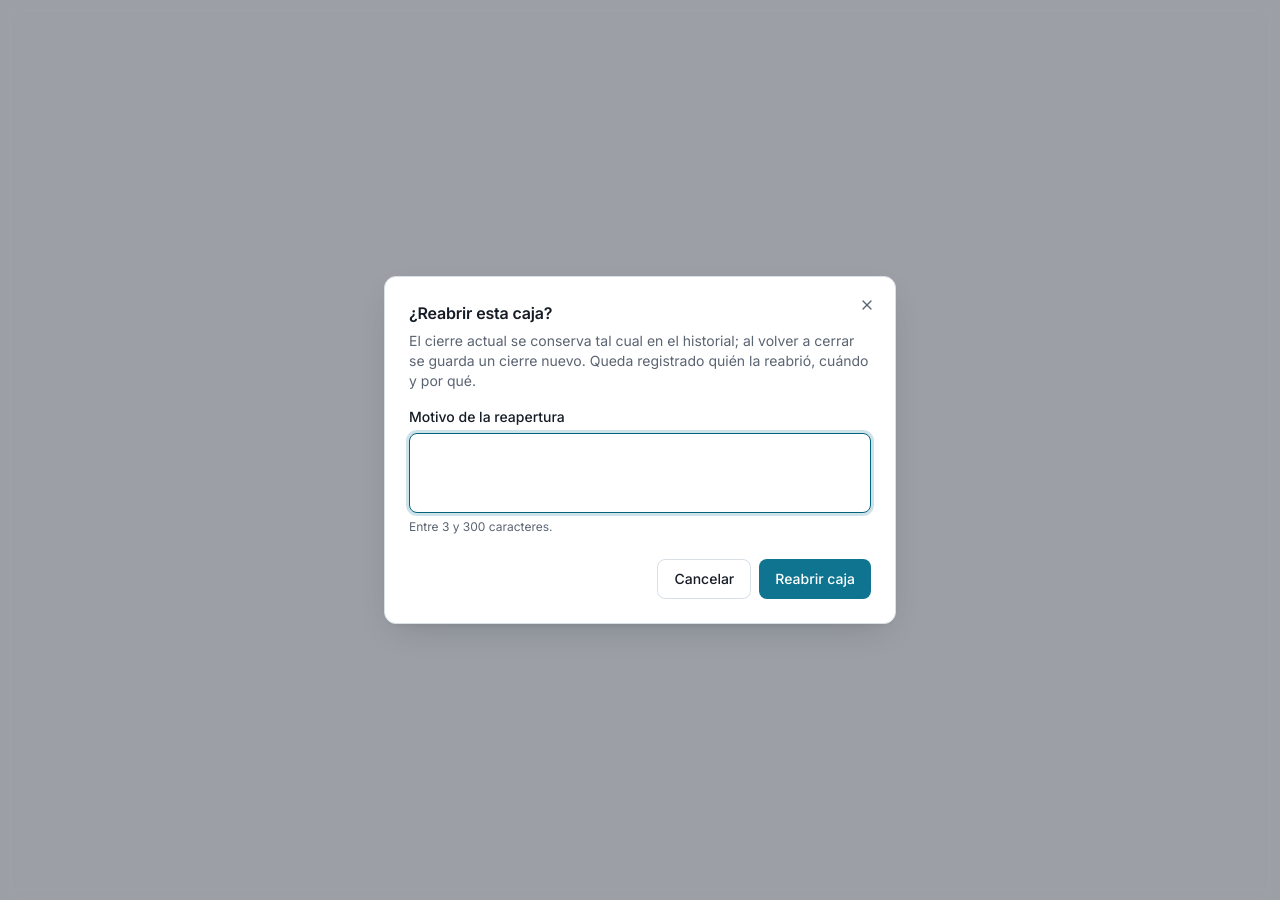
Test: ReopenCashSessionModal (DX-027, DX-252) › el motivo es obligatorio: sin él (o con espacios) no llama a la API y lo dice junto al campo
The width and height of the screenshot is (1280, 900).
Expected: the text "Entre 3 y 300 caracteres." is shown, [409,519,552,534]
Click the button "Reabrir caja": (815, 579) [759,559,871,599]
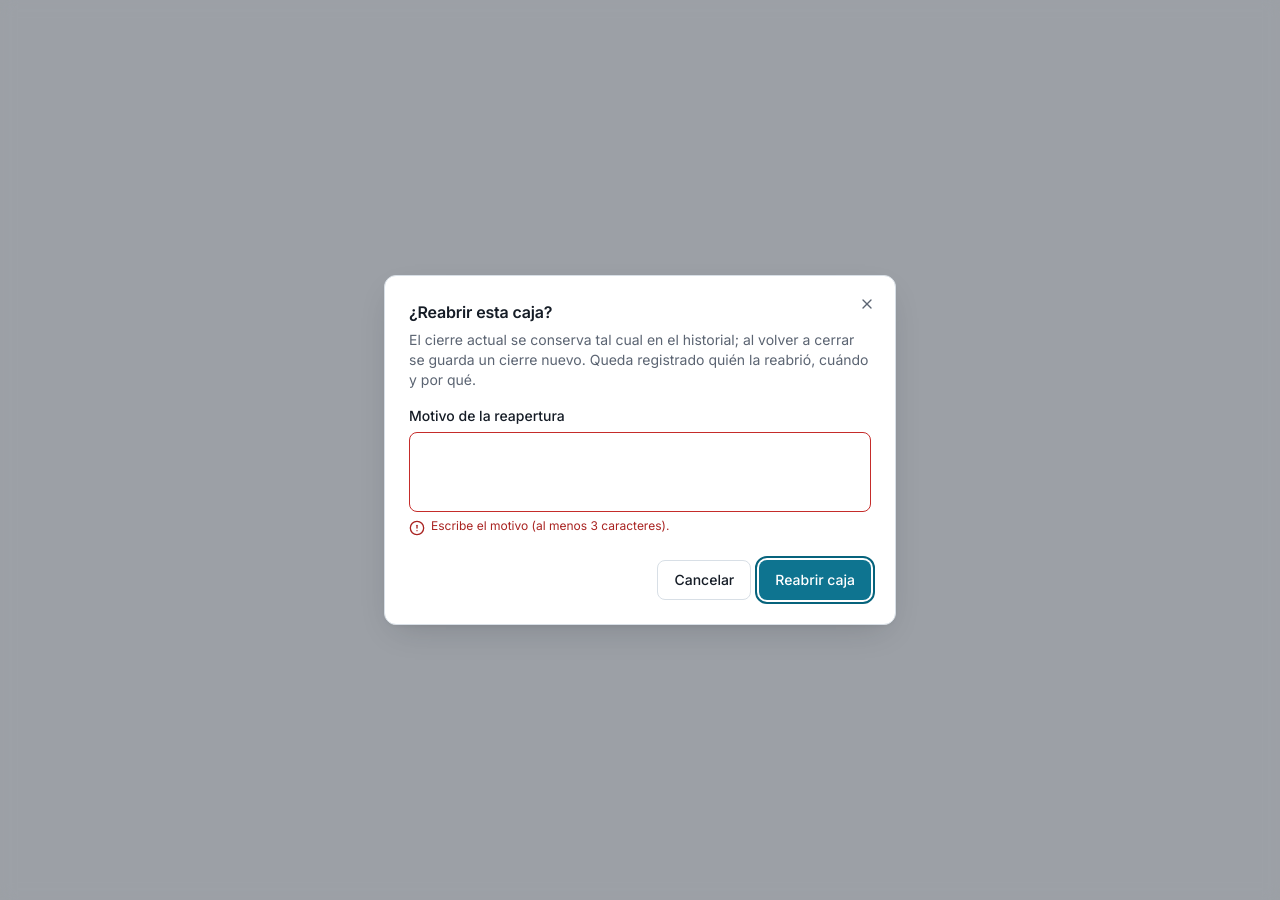
Result: the text "Escribe el motivo (al menos 3 caracteres)." is shown at [431,518,669,534]
In the text box labelled "Motivo de la reapertura": (640, 472) [409,432,871,512], type "  a "
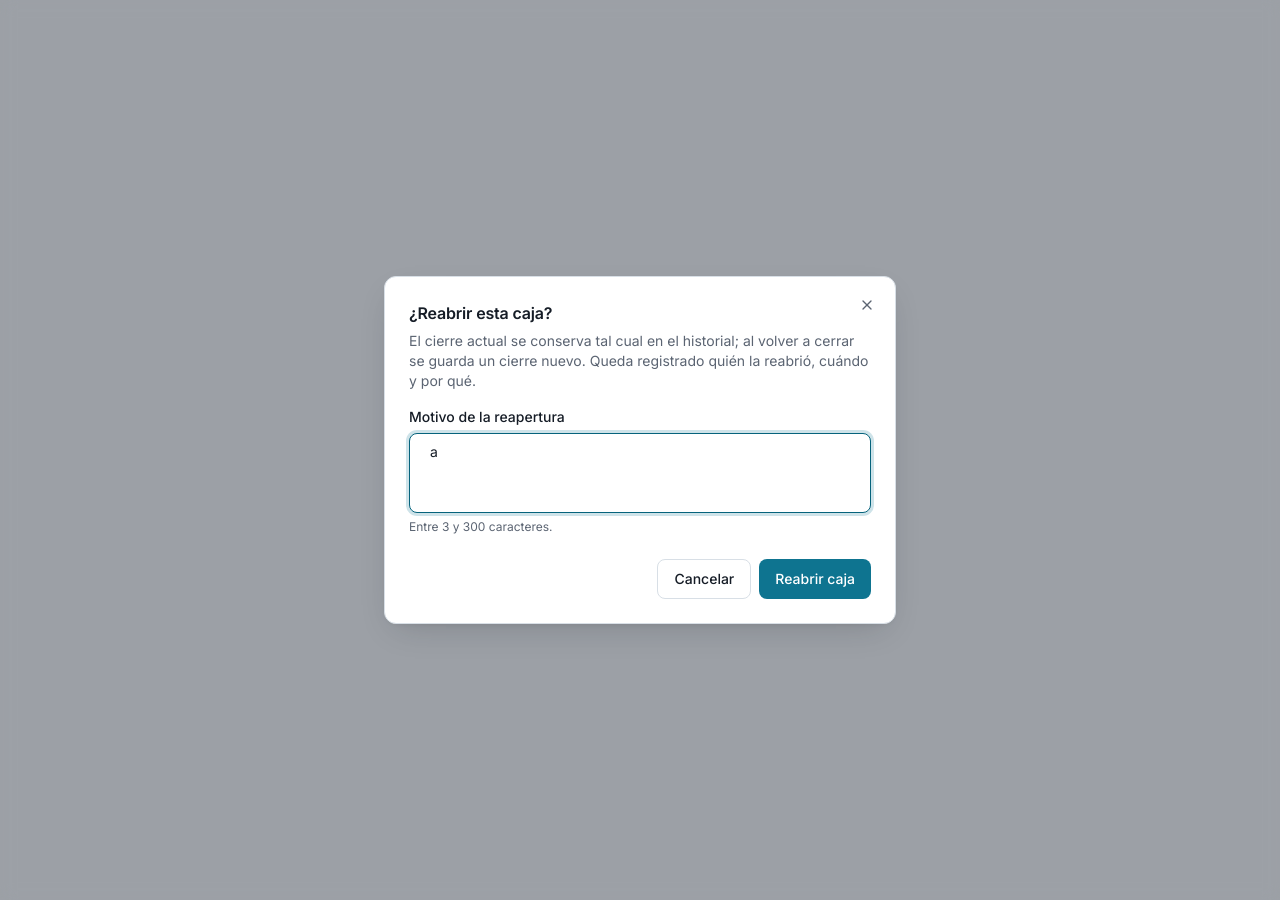
Click the button "Reabrir caja": (815, 579) [759,559,871,599]
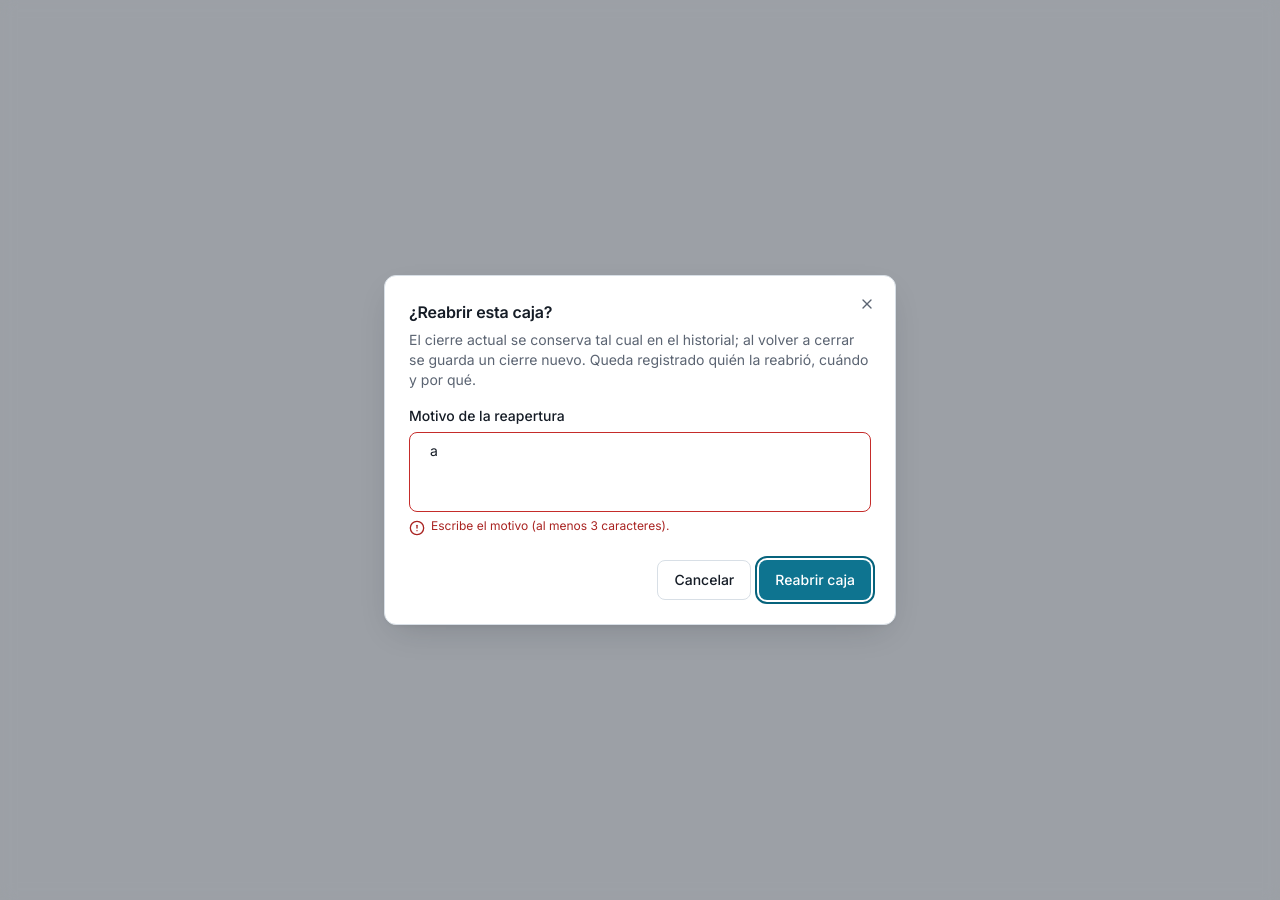
Result: the text "Escribe el motivo (al menos 3 caracteres)." is shown at [431,518,669,534]
# Al volver a escribir el aviso se va.
In the text box labelled "Motivo de la reapertura": (640, 472) [409,432,871,512], type "b"
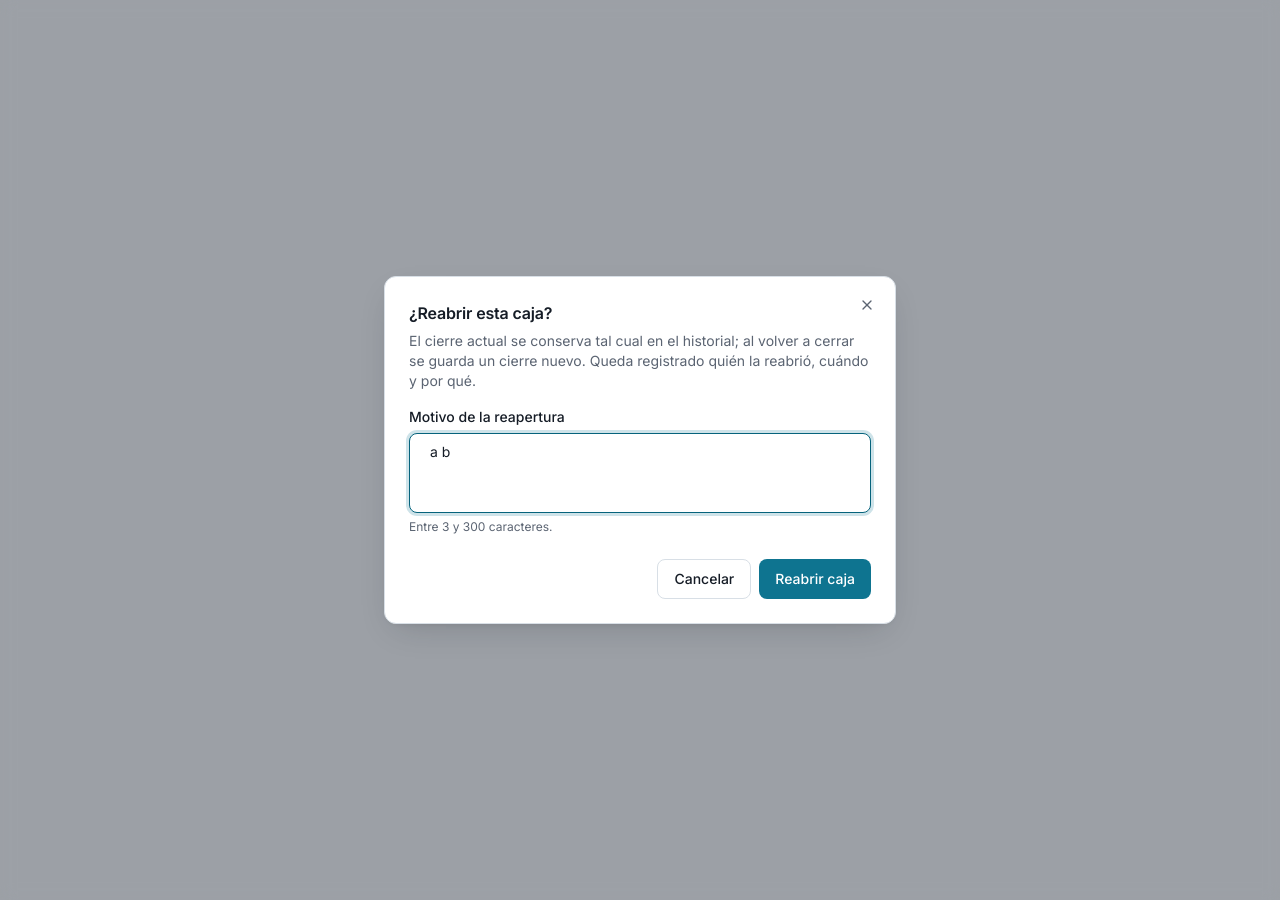
Result: the text "Escribe el motivo (al menos 3 caracteres)." is gone
